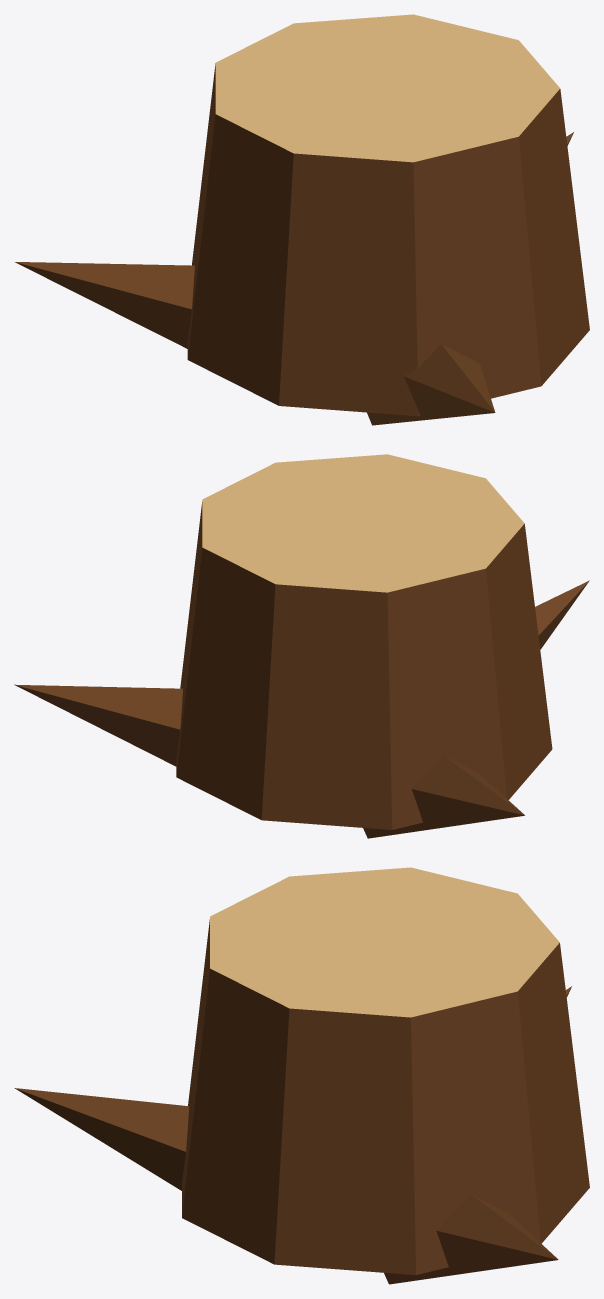
File: nature2_tree_stump.glb
3 views of the same model, one above another, from view 1: azimuth 30°, elevation 25°; view 2: azimuth 150°, elevation 25°; view 3: azimuth 270°, elevation 25° (orthographic). The views are drawn at different scales.
Parts seen in each view (by area): view 1: tree_stump; view 2: tree_stump; view 3: tree_stump.
Part boxes in pixels (x1,y1,x2,y2): tree_stump: [15, 14, 589, 425]; tree_stump: [14, 454, 589, 838]; tree_stump: [14, 867, 589, 1284].
Bounding box in the file's own units: 1.08 × 0.5459 × 0.9582.
